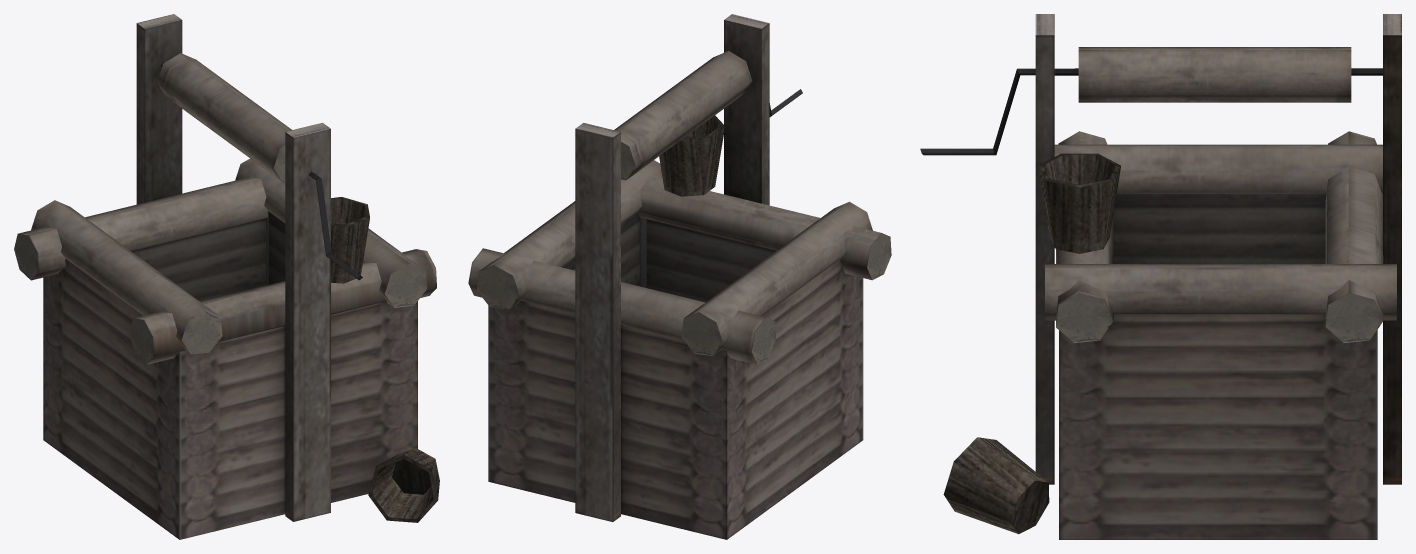
The model's file is water_box.FBX.
3 views of the same model, side by side, from view 1: azimuth 30°, elevation 25°; view 2: azimuth 150°, elevation 25°; view 3: azimuth 270°, elevation 25° (orthographic). The views are drawn at different scales.
Visible parts, largest first — view 1: Box003; view 2: Box003; view 3: Box003.
Boxes of the visible parts, x1,y1,x2,y2 form: Box003: [14, 14, 439, 539]; Box003: [468, 14, 891, 539]; Box003: [920, 14, 1401, 539].
Size of the model in its own units: 17.59 by 22.17 by 22.81.
